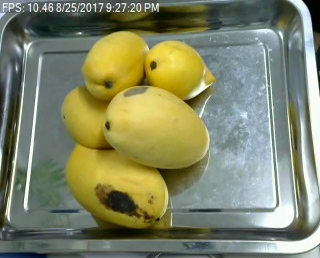Mango: (102, 84, 209, 170), (64, 142, 169, 228), (80, 28, 148, 98), (144, 37, 214, 97), (61, 85, 119, 150)
